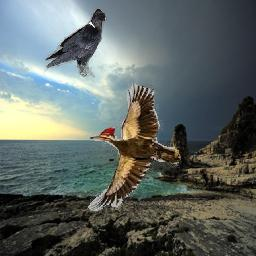Crow: (43, 8, 107, 78)
Woodpecker: (88, 82, 183, 212)
